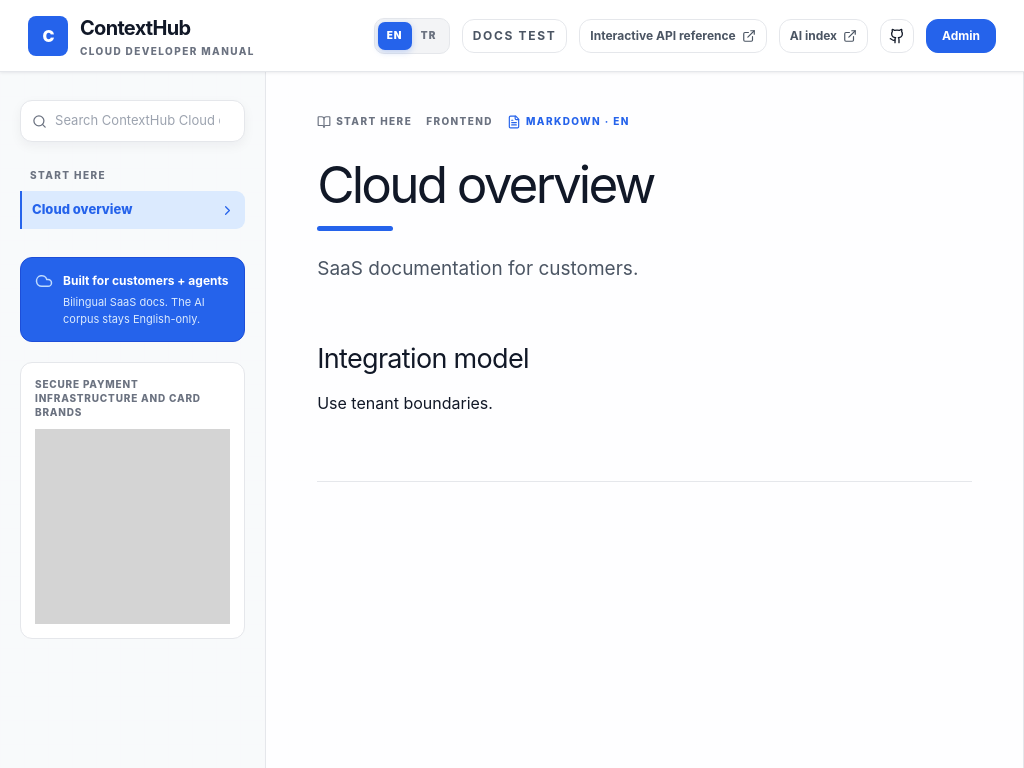
Test: PublicDocumentation › switches the human documentation to Turkish while the AI index remains English
Click the button "TR" at (429, 36), box [412, 22, 446, 50]
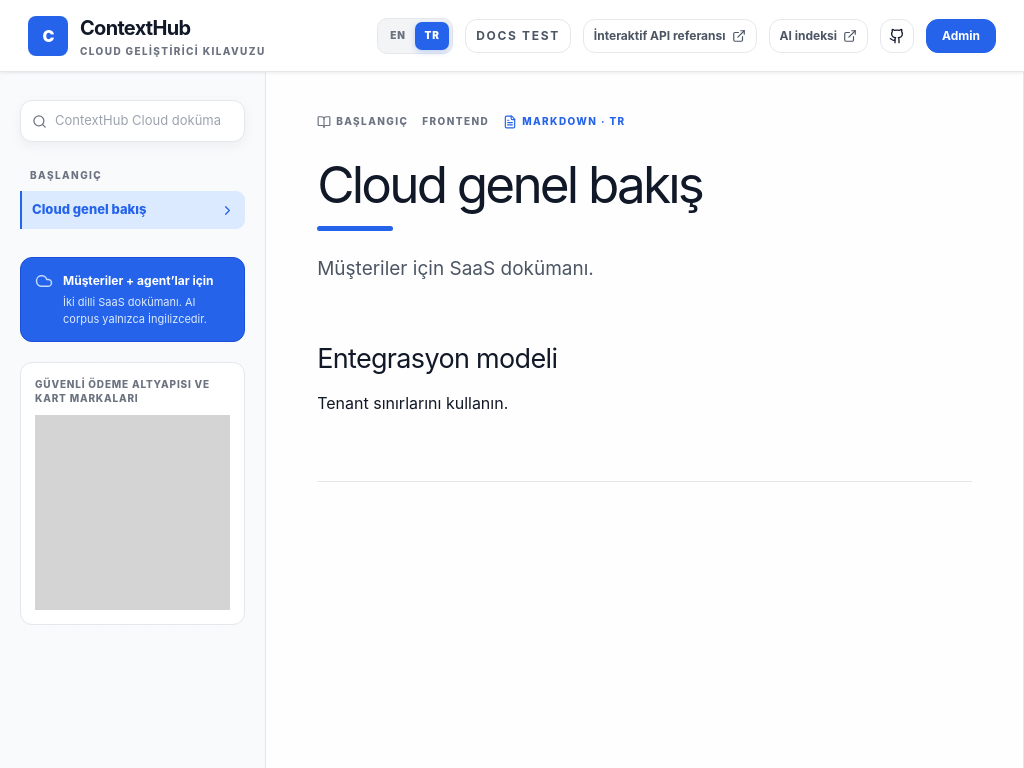
Expected: the link to "/developer-docs/llms.txt" is shown, [768, 18, 868, 52]
Now the heading "Cloud genel bakış" is shown, box [317, 153, 702, 215]
Now the text "Müşteriler için SaaS dokümanı." is shown, box [317, 257, 594, 280]
